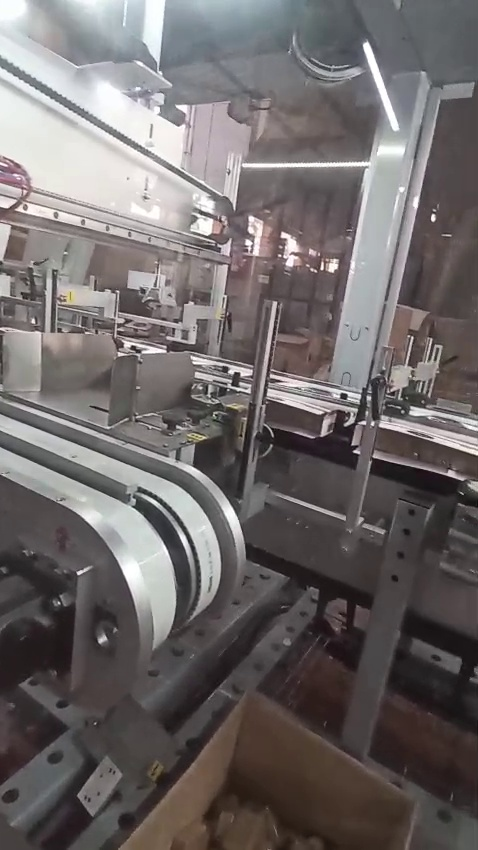savon: (112, 700, 413, 850), (435, 356, 458, 396), (146, 760, 168, 790), (234, 420, 249, 439), (187, 432, 208, 445), (61, 291, 75, 308)
